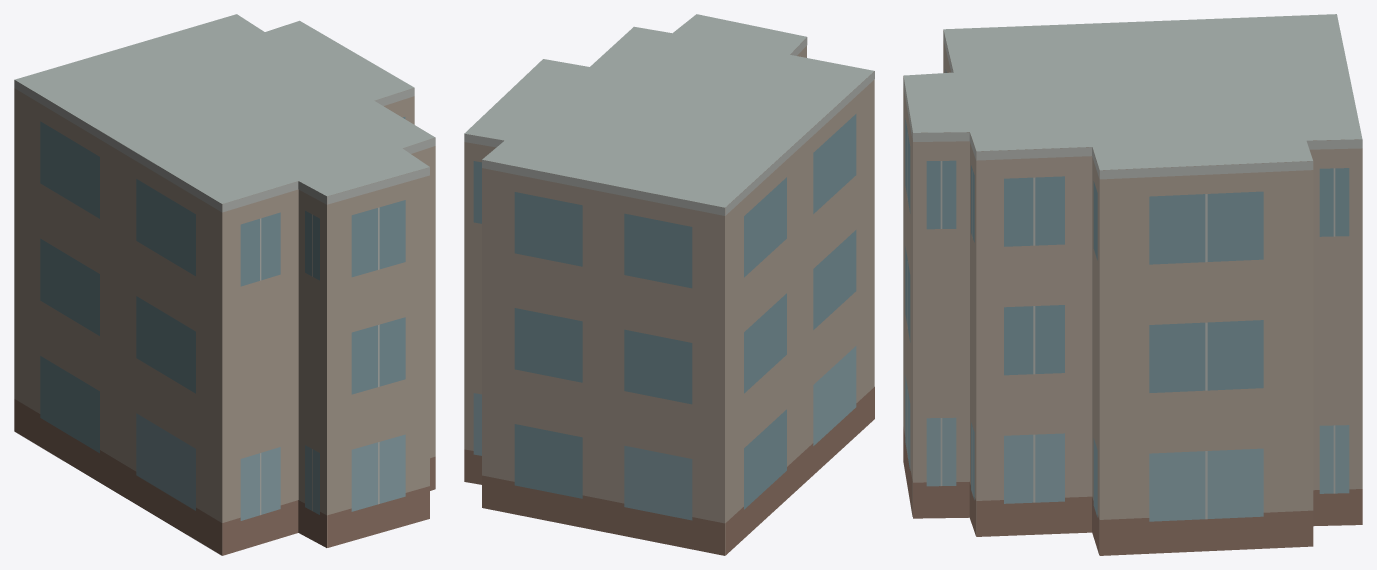
Rendered from survey-upis-32757662.glb.
3 renders of one model, left to right at view 1: azimuth 30°, elevation 25°; view 2: azimuth 150°, elevation 25°; view 3: azimuth 270°, elevation 25°, orthographic. The views are drawn at different scales.
Visible parts, largest first — view 1: survey-upis-32757662.tmp; view 2: survey-upis-32757662.tmp; view 3: survey-upis-32757662.tmp.
Boxes of the visible parts, x1=… form: survey-upis-32757662.tmp: x1=14, y1=14, x2=435, y2=555; survey-upis-32757662.tmp: x1=464, y1=14, x2=874, y2=555; survey-upis-32757662.tmp: x1=903, y1=14, x2=1362, y2=555.
Bounding box in the file's own units: 8.87 × 10.2 × 11.02.
